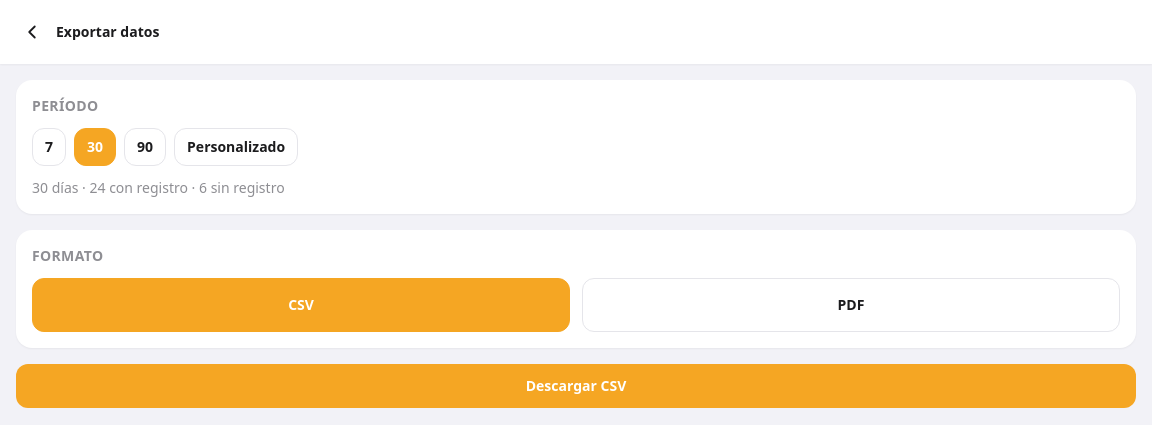
Test: ExportRoute presets and summary › offers 7, 90 and Personalizado and updates the summary on change
The image size is (1152, 425).
Expected: the text "30 días · 24 con registro · 6 sin registro" is shown, [32, 178, 285, 197]
Click the button "7": (49, 147) [32, 128, 66, 166]
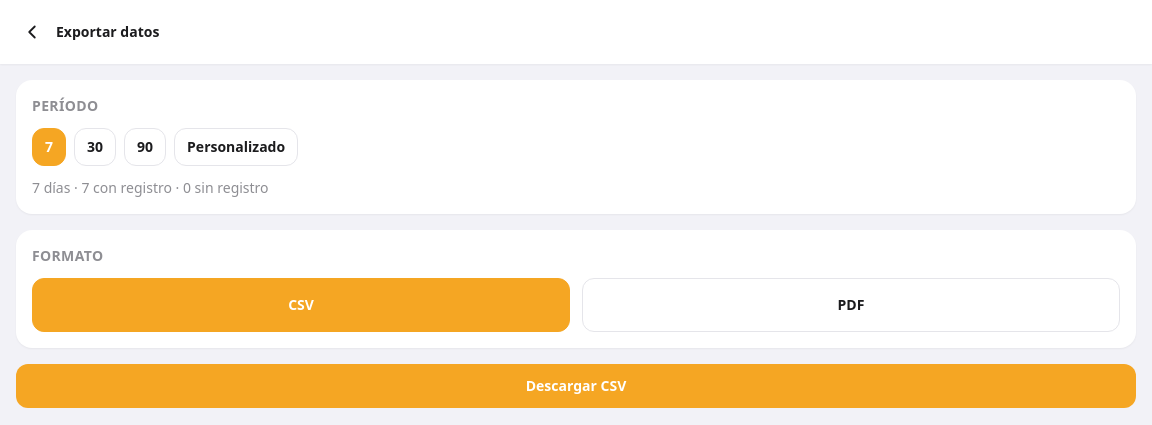
Now the text "7 días · 7 con registro · 0 sin registro" is shown, box [32, 178, 269, 197]
Click the button "90": (145, 147) [124, 128, 166, 166]
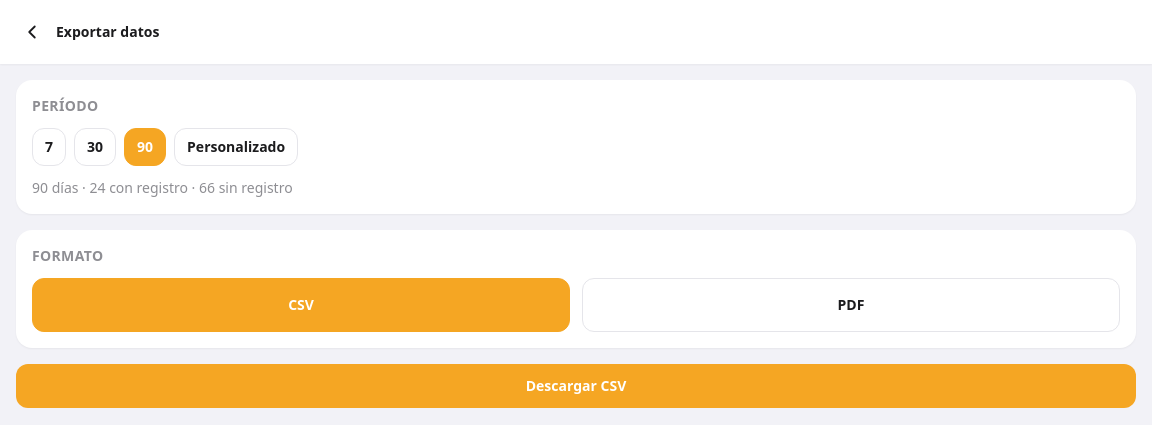
Expected: the button "Personalizado" is shown, [174, 128, 298, 166]
Now the text "90 días · 24 con registro · 66 sin registro" is shown, box [32, 178, 293, 197]
